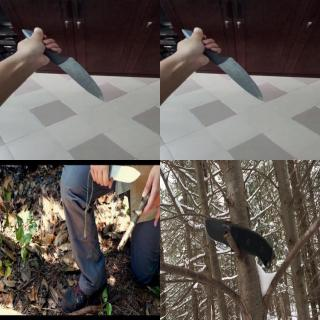knife: (54, 58, 109, 100), (214, 60, 268, 101), (202, 216, 252, 256), (101, 165, 141, 191)
